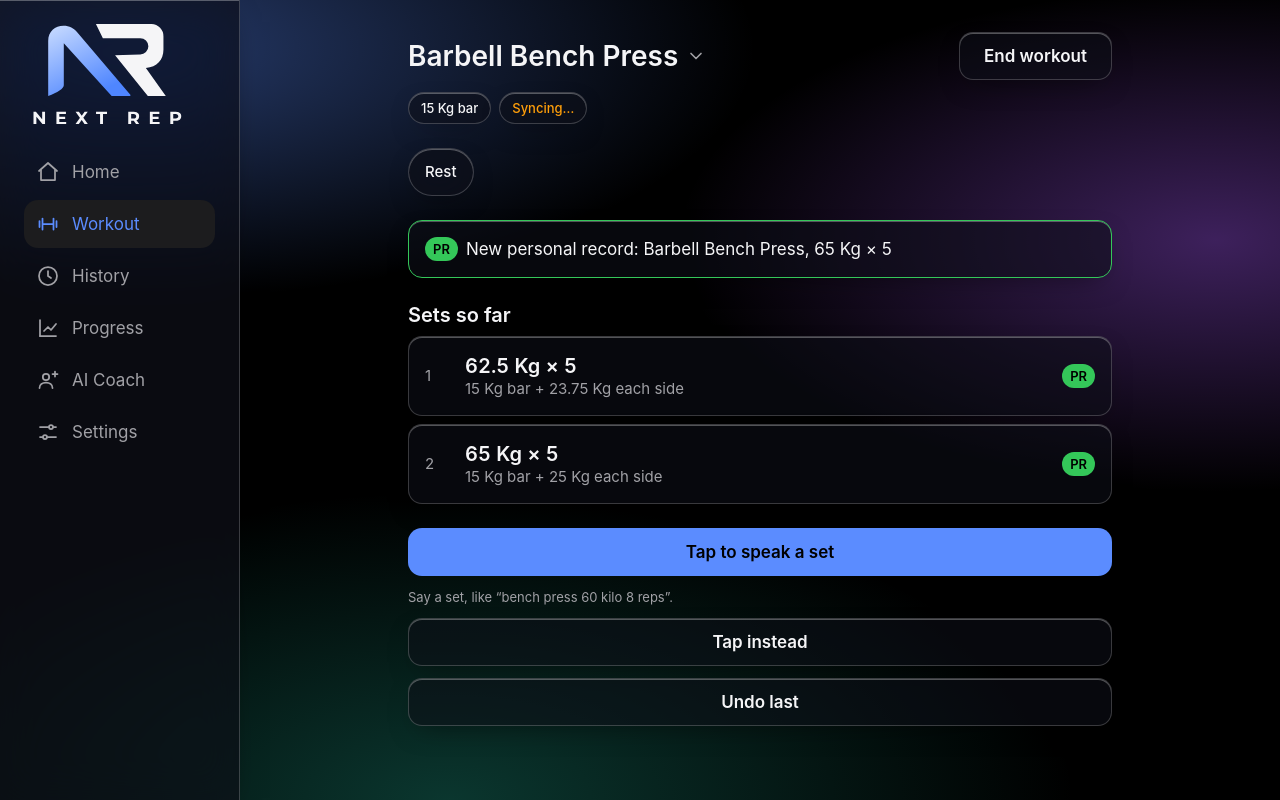
undo and personal records › moves the banner to the earlier record set when the last one is undone
Expected: the text "New personal record: Barbell Bench Press, 65 Kg × 5" is shown, [466,237,892,261]
Click the button "Undo last" at (760, 702), box [408,678,1112,726]
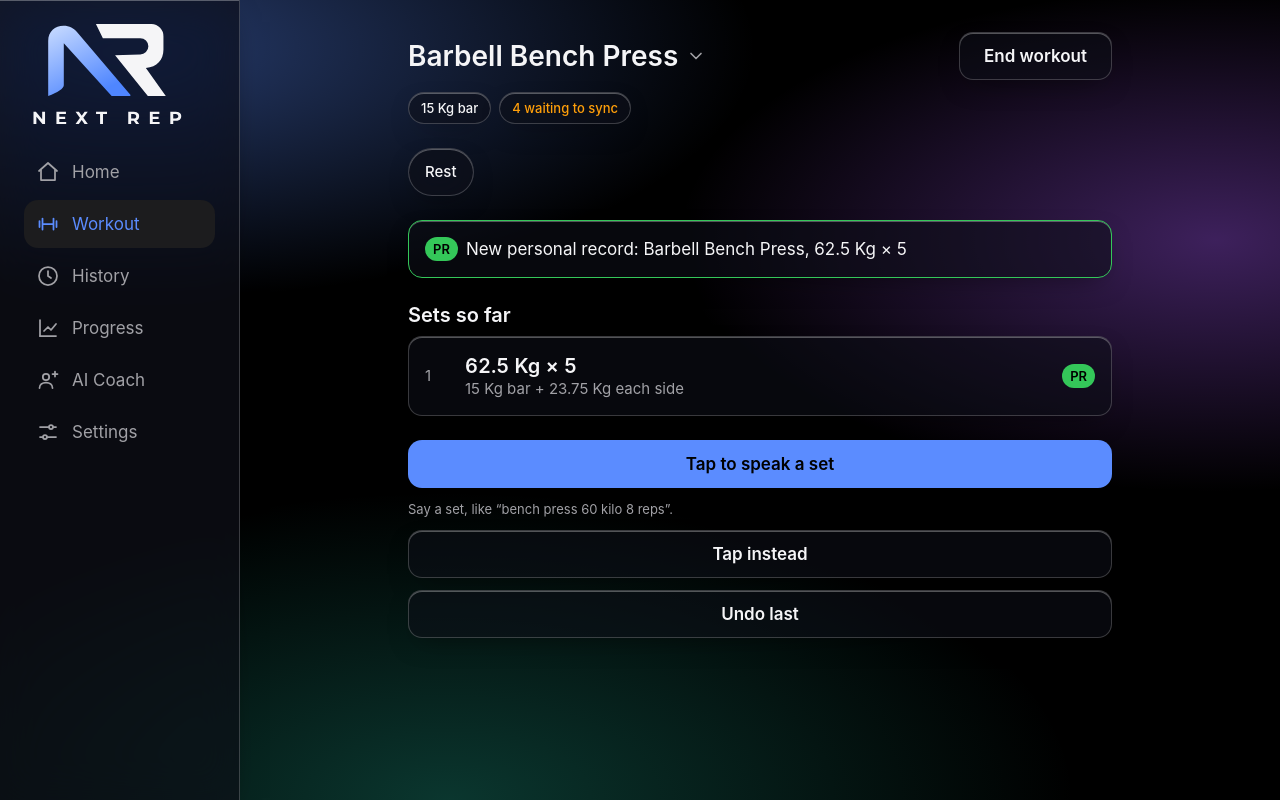
Expected: the text "New personal record: Barbell Bench Press, 62.5 Kg × 5" is shown, [466,237,907,261]
Expected: the text "65 Kg × 5" is gone
The button stays disabled until the first undo has finished, a moment after the banner moves.
Click the button "Undo last" at (760, 614), box [408,590,1112,638]
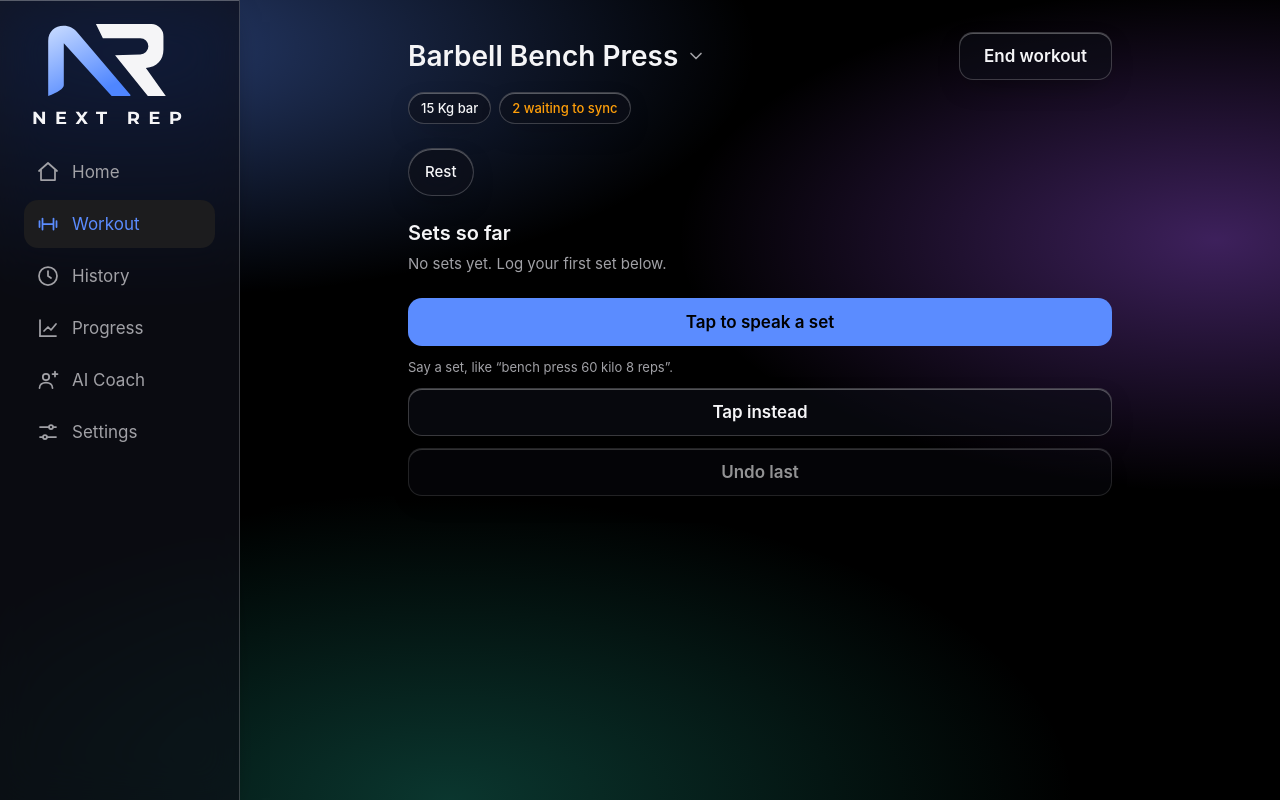
Expected: the text "New personal record" is gone
